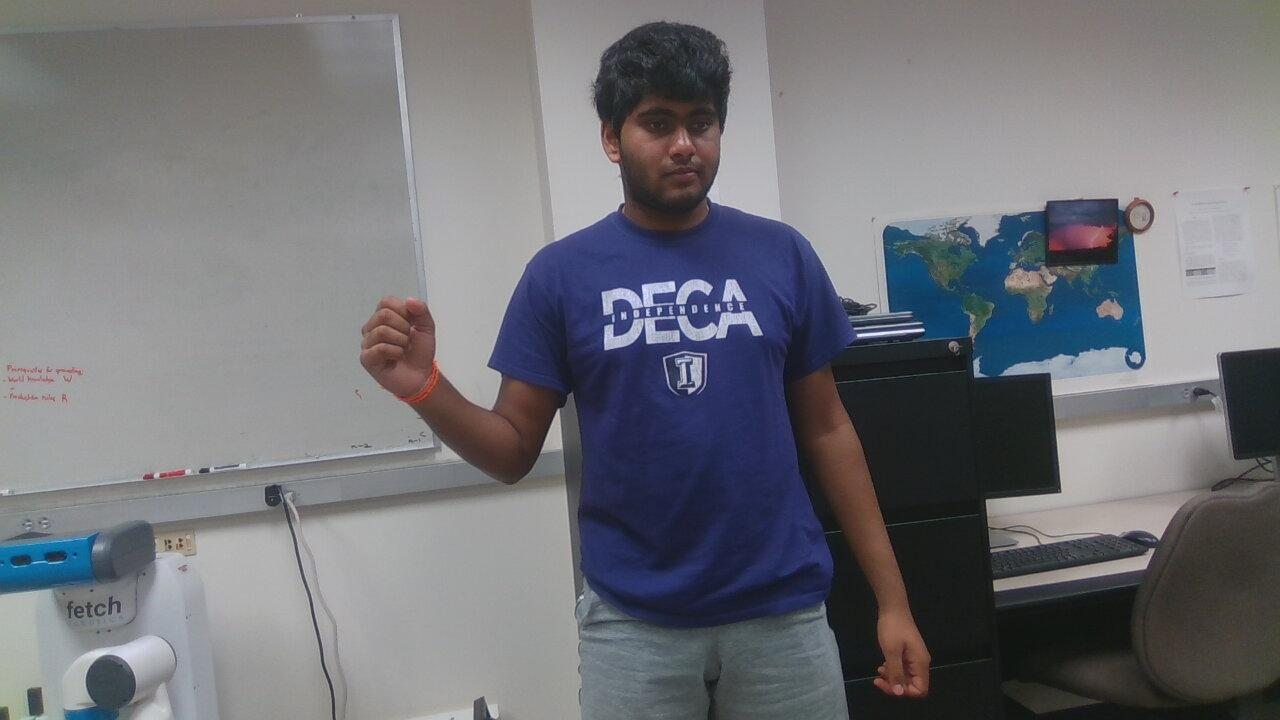fist: (853, 594, 959, 708), (356, 282, 442, 405)
